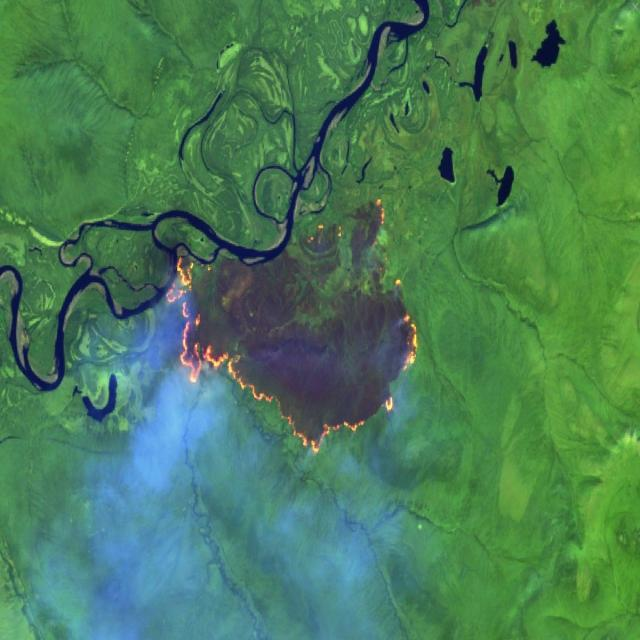fire: (162, 185, 422, 458)
